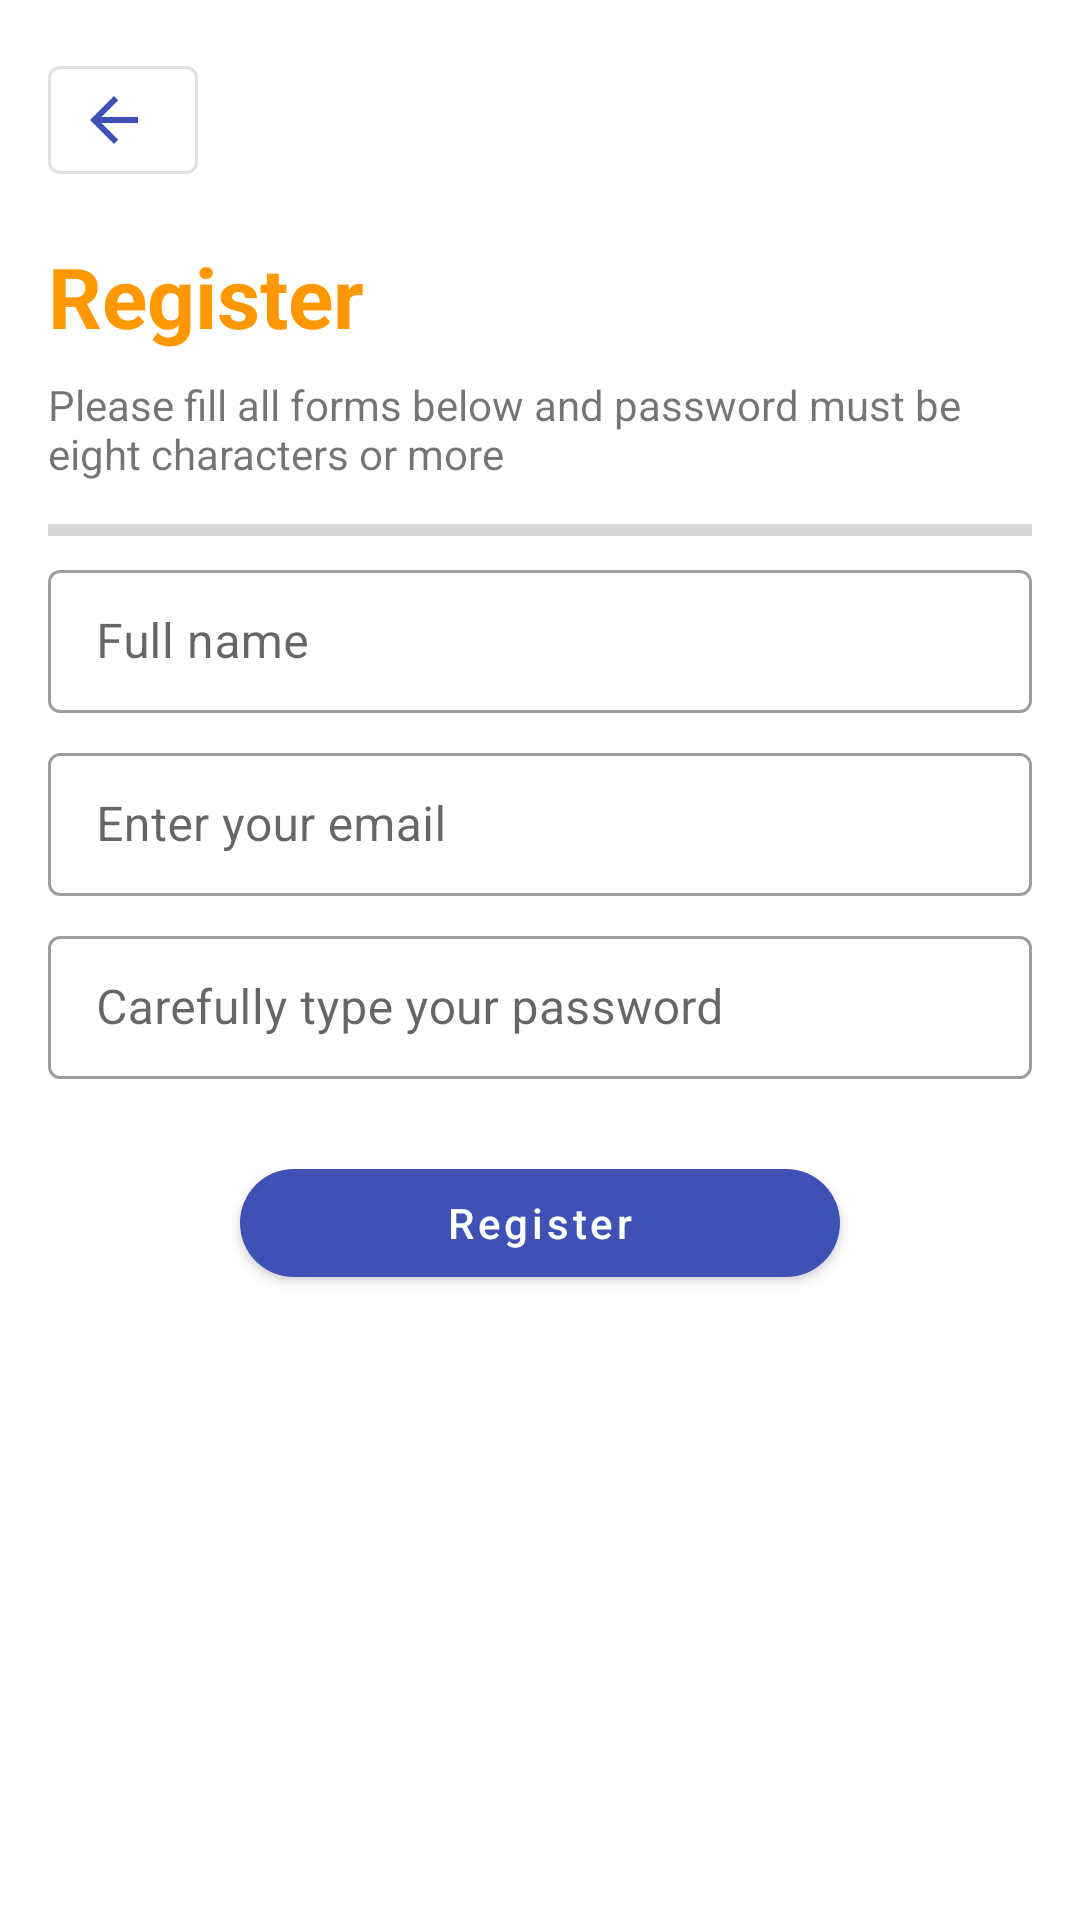

Screen size 1080px x 1920px. Icon name, then its center in pixels as (x,y):
arrow back: (123,120)
